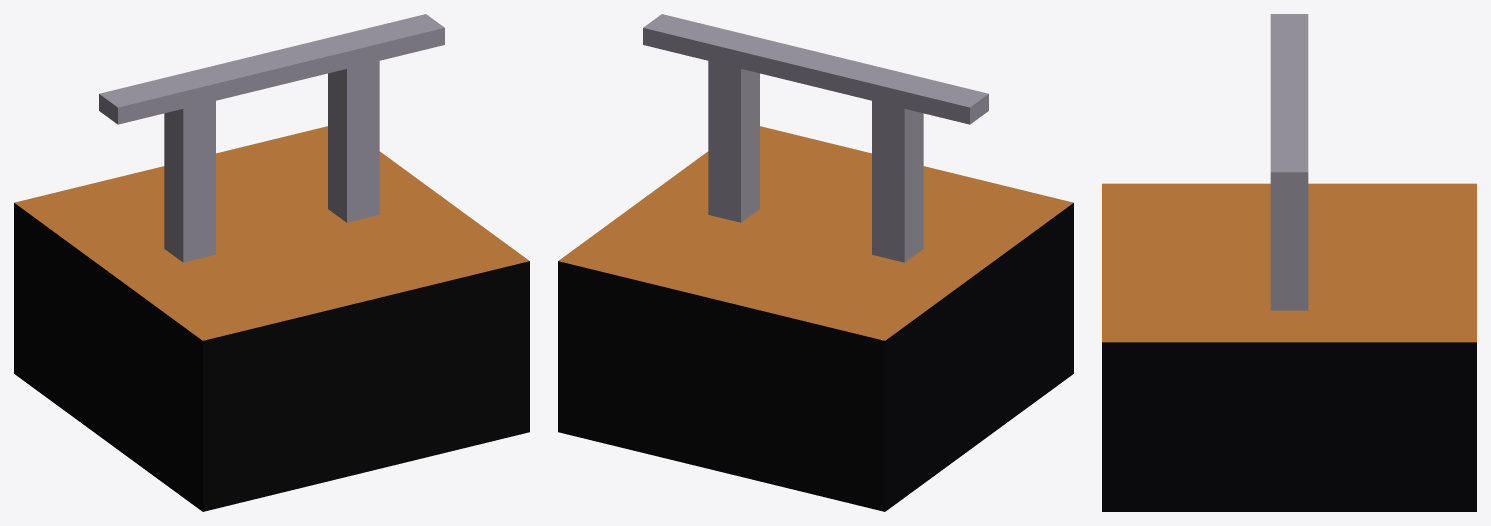
The model's file is Rail_Block_Tall.obj.
3 renders of one model, left to right at view 1: azimuth 30°, elevation 25°; view 2: azimuth 150°, elevation 25°; view 3: azimuth 270°, elevation 25°, orthographic.
Visible parts, largest first — view 1: Rail_Block_Tall; view 2: Rail_Block_Tall; view 3: Rail_Block_Tall.
Boxes of the visible parts, box(x1,y1,x2,y2) form: Rail_Block_Tall: box(14, 14, 529, 511); Rail_Block_Tall: box(558, 14, 1073, 511); Rail_Block_Tall: box(1102, 14, 1476, 511).
Size of the model in its own units: 10 by 10 by 10.
